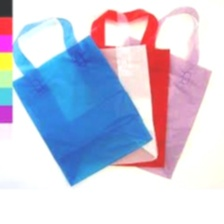plastic_bag: (5, 14, 154, 188), (110, 1, 217, 181), (62, 0, 159, 168), (78, 8, 169, 172)
